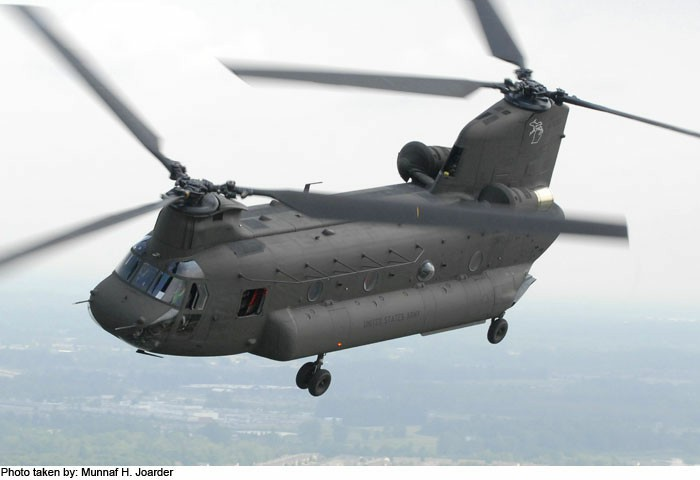chinook: (69, 52, 628, 394)
